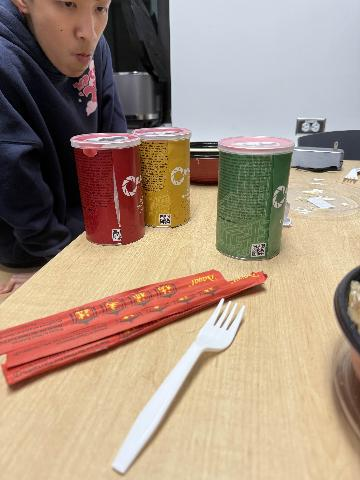Golden Can: (134, 128, 191, 227)
Green Can: (216, 137, 294, 260)
Red Can: (71, 134, 144, 245)
